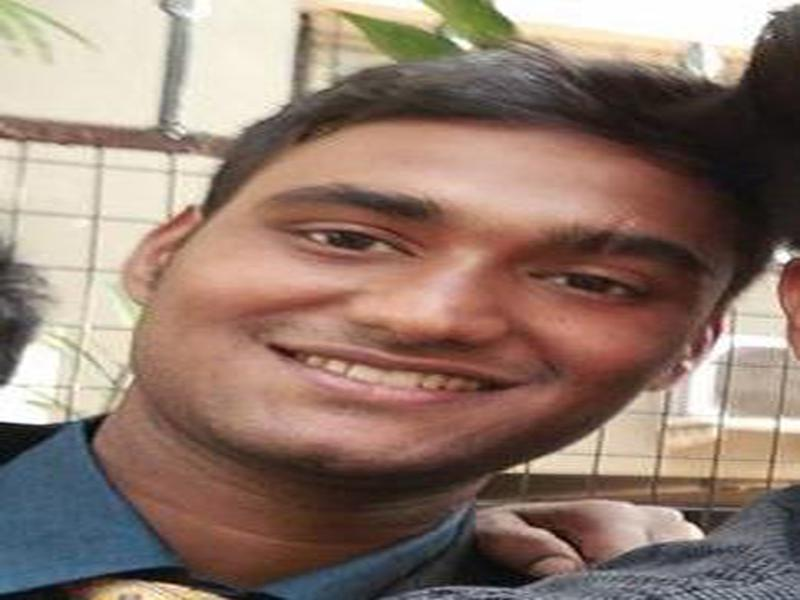without_mask: (134, 116, 730, 488)
